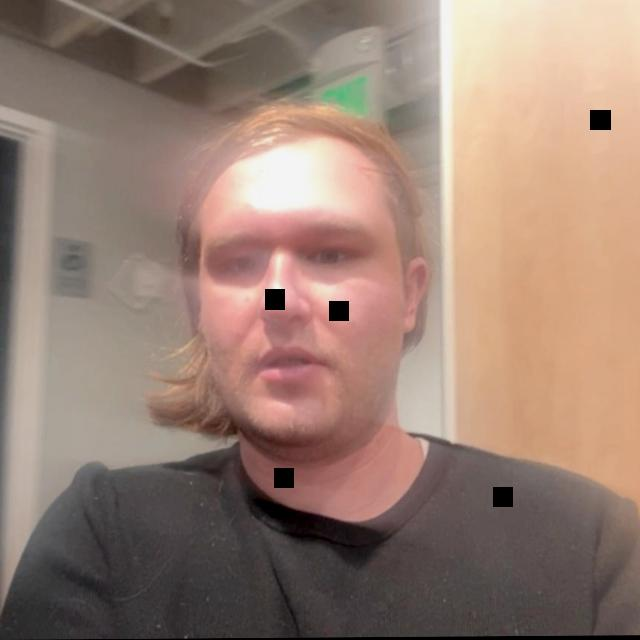NO-Mask: (160, 90, 443, 544)
